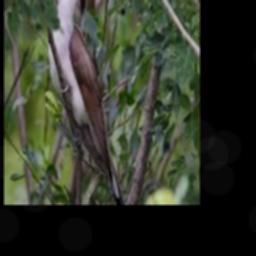Cuckoo: (49, 0, 122, 203)
